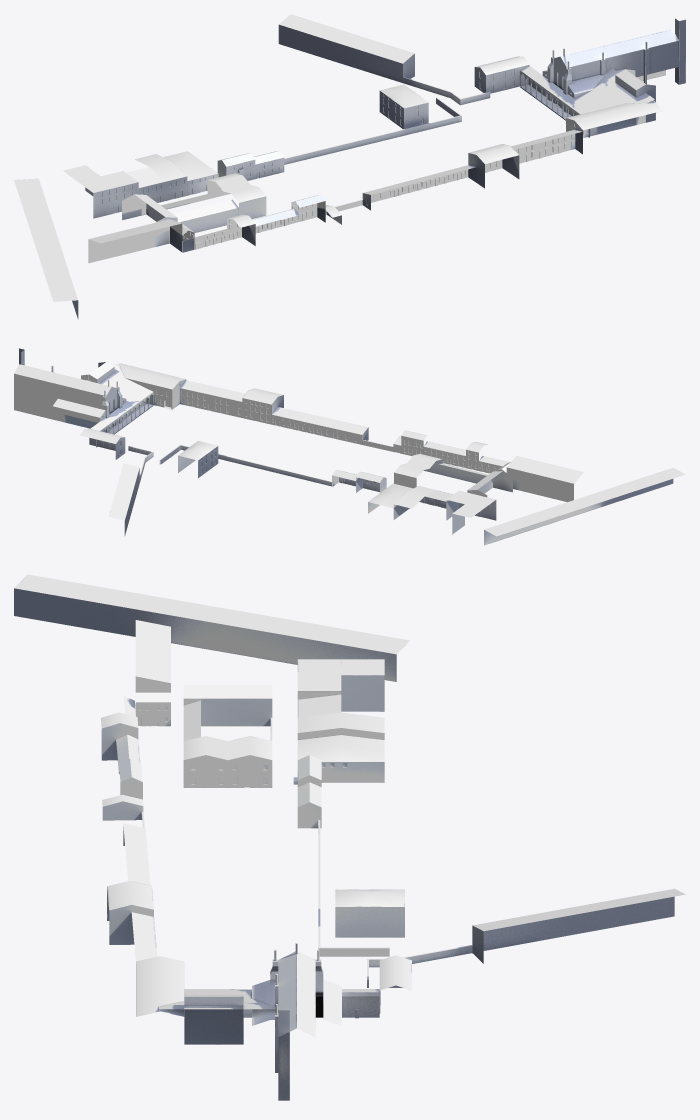
File: Edifici cucinati.glb
The picture shows the model from 3 angles, top to bottom: view 1: azimuth 30°, elevation 25°; view 2: azimuth 150°, elevation 25°; view 3: azimuth 270°, elevation 25°; orthographic projection. The views are drawn at different scales.
Visible parts, largest first — view 1: Contesto; view 2: Contesto; view 3: Contesto.
Boxes of the visible parts, <box> form: Contesto: <box>14,14,685,319</box>; Contesto: <box>14,348,685,545</box>; Contesto: <box>14,574,685,1100</box>.
Size of the model in its own units: 310 by 26.18 by 176.
Materials: 1 (1 with a texture image).
